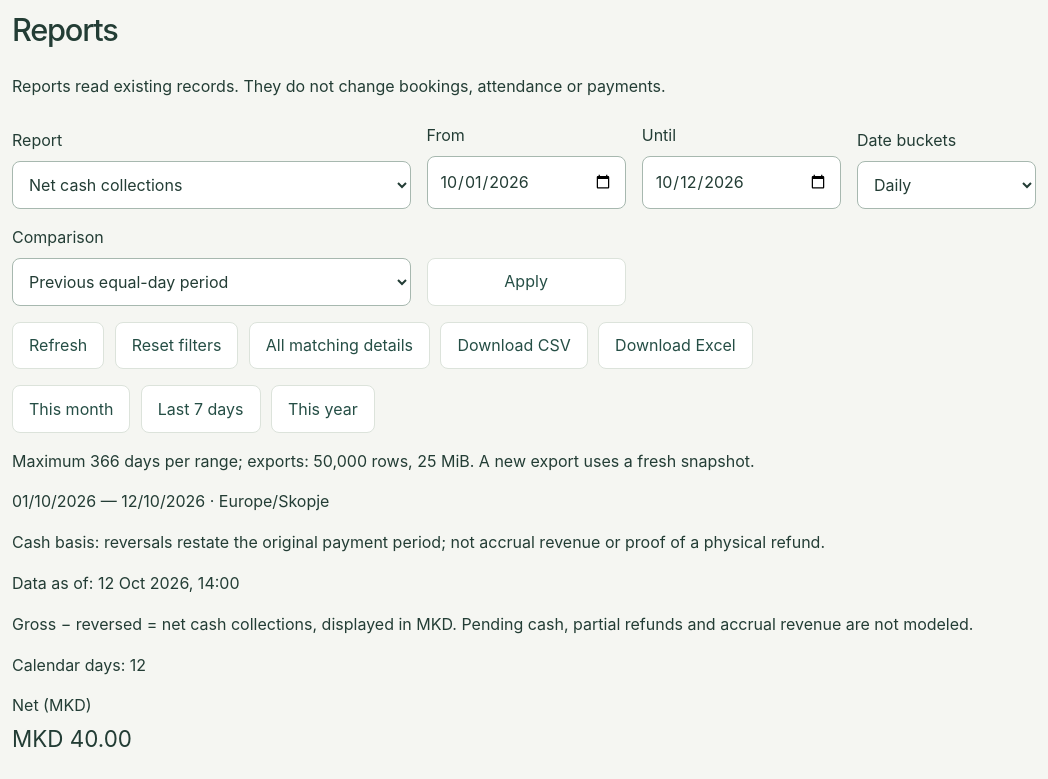
Scenario: revocation clears old values and does not show a false zero
The width and height of the screenshot is (1048, 779).
expect the text "Europe/Skopje" is shown: met, box [219,492,329,512]
Click the button "Refresh": (58, 345) [12,322,104,369]
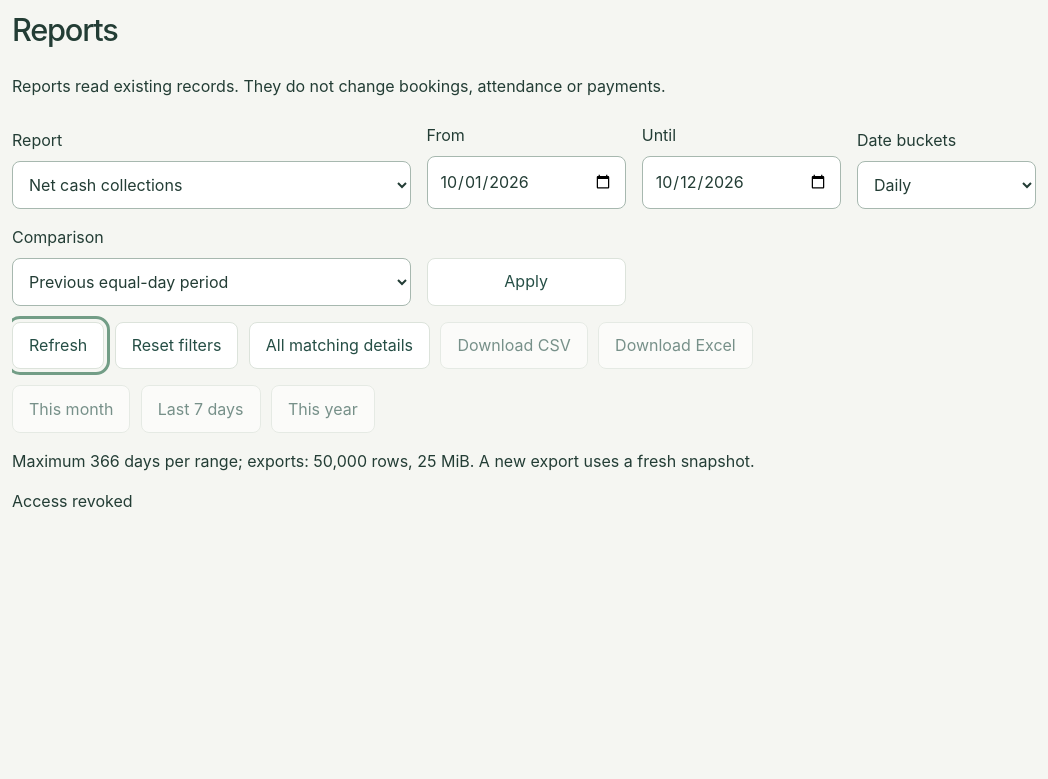
expect the message reads "Access revoked": met, box [12,492,133,512]
